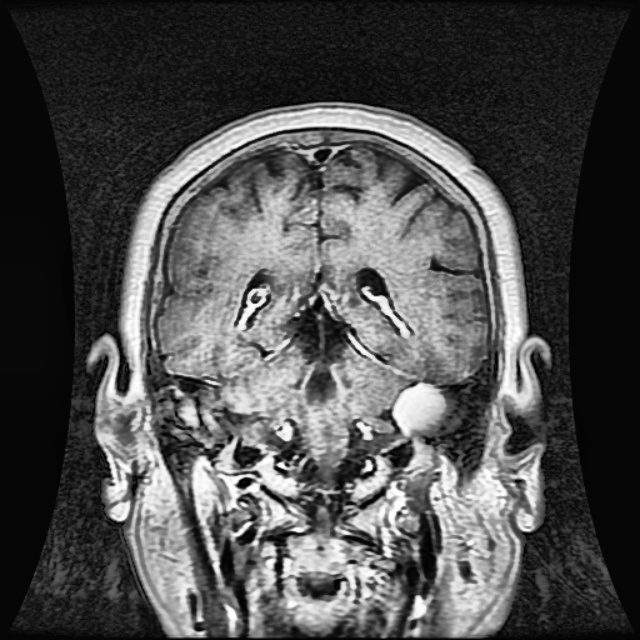Glioma: (390, 379, 445, 438)
